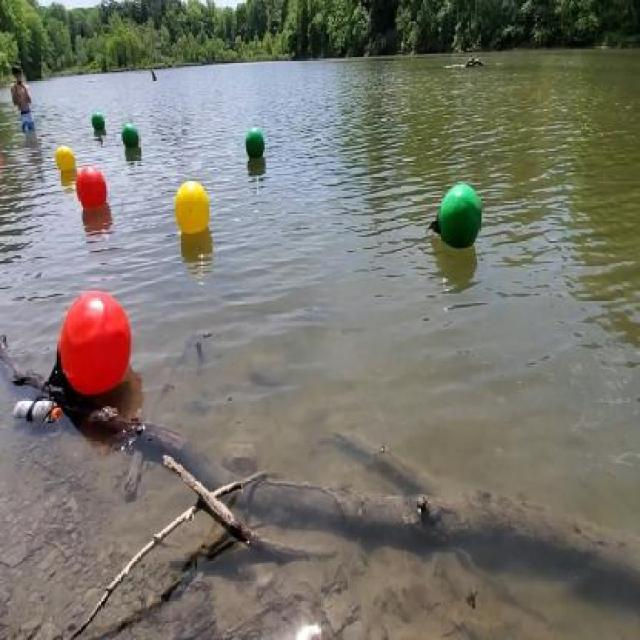buoy: (46, 290, 132, 395), (427, 183, 482, 249), (174, 180, 210, 234), (75, 165, 108, 208), (244, 126, 264, 160), (56, 144, 76, 170), (122, 123, 140, 151), (92, 111, 105, 132)
